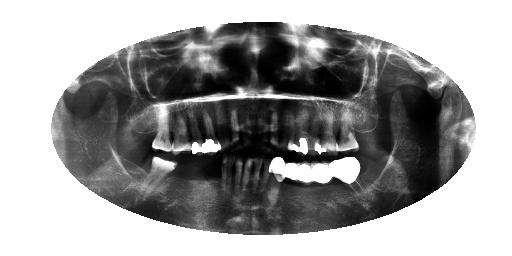i10decay: (232, 153, 244, 205)
i11decay: (216, 148, 235, 203)
i12loss: (200, 147, 223, 205)
i2healthy: (328, 150, 368, 201)
i3loss: (310, 149, 340, 209)
i4loss: (295, 157, 312, 208)
i5loss: (284, 155, 301, 213)
i6healthy: (262, 156, 289, 214)
i7healthy: (257, 153, 274, 212)
i8decay: (250, 152, 264, 207)
i9decay: (240, 155, 254, 207)
u11loss: (212, 96, 234, 156)
u12healthy: (200, 108, 222, 160)
u13healthy: (184, 105, 209, 159)
u14healthy: (168, 106, 192, 162)
u15healthy: (147, 97, 179, 159)
u2healthy: (333, 109, 362, 159)
u3healthy: (314, 105, 340, 162)
u4healthy: (297, 103, 321, 155)
u5healthy: (285, 103, 309, 159)
u6decay: (277, 107, 290, 155)
u7loss: (262, 105, 280, 157)
